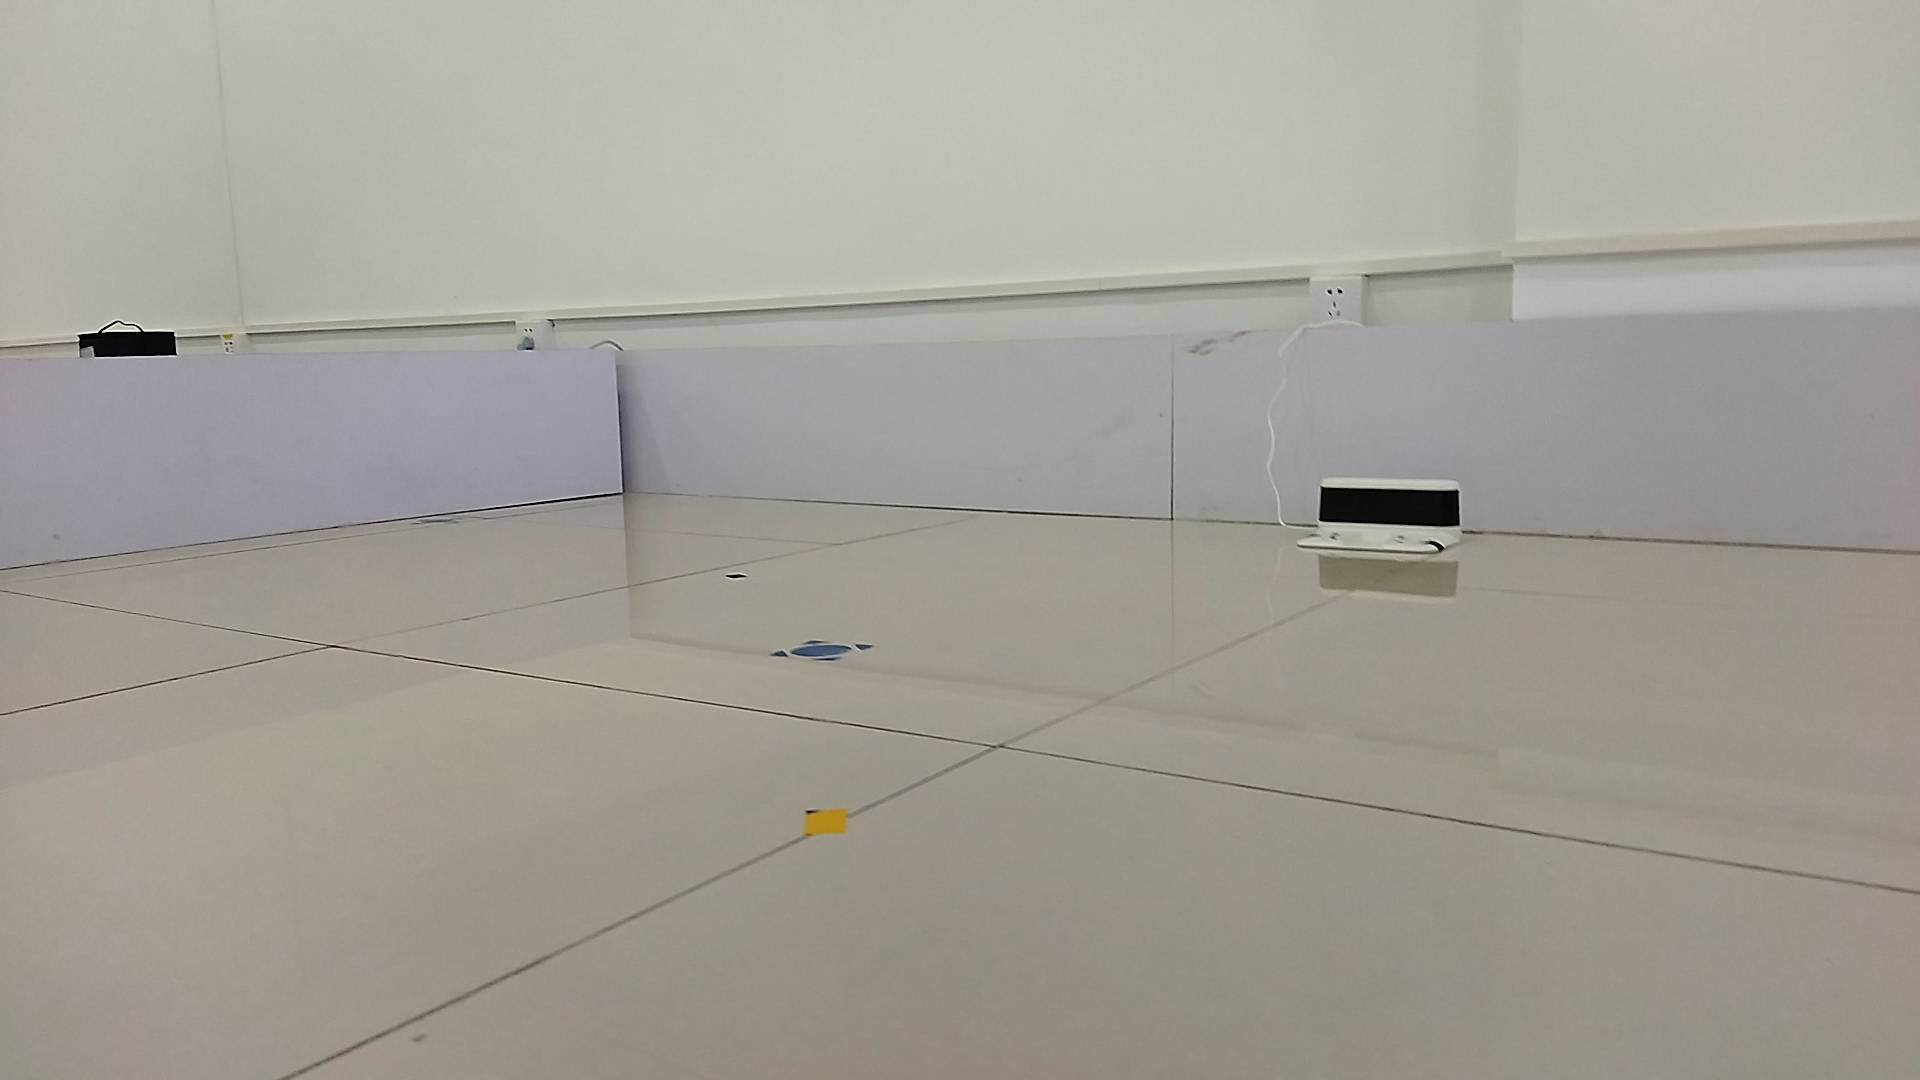recharge seat: (1296, 475, 1468, 554)
